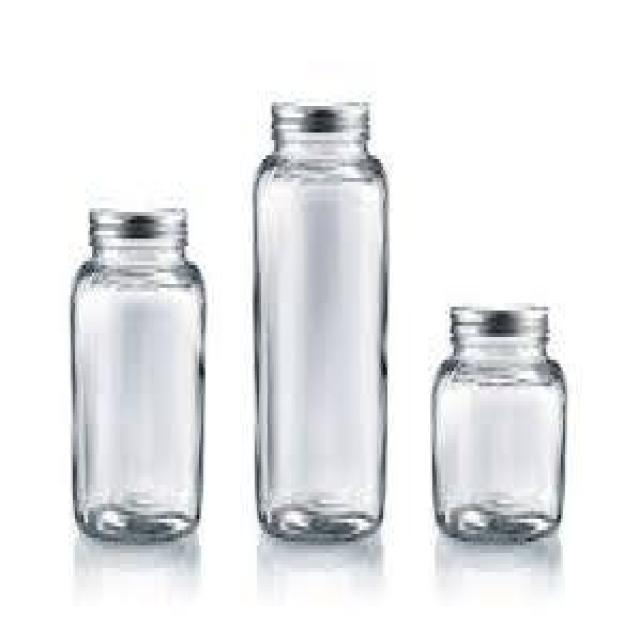Glass: (250, 97, 392, 547), (68, 206, 206, 546), (430, 300, 570, 548)
